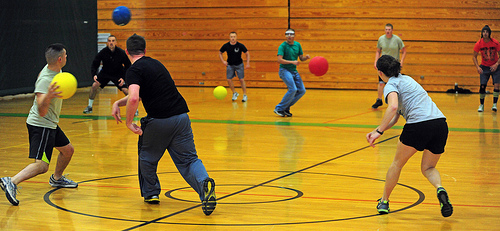blue ball: (108, 3, 134, 28)
red ball: (307, 54, 330, 77)
